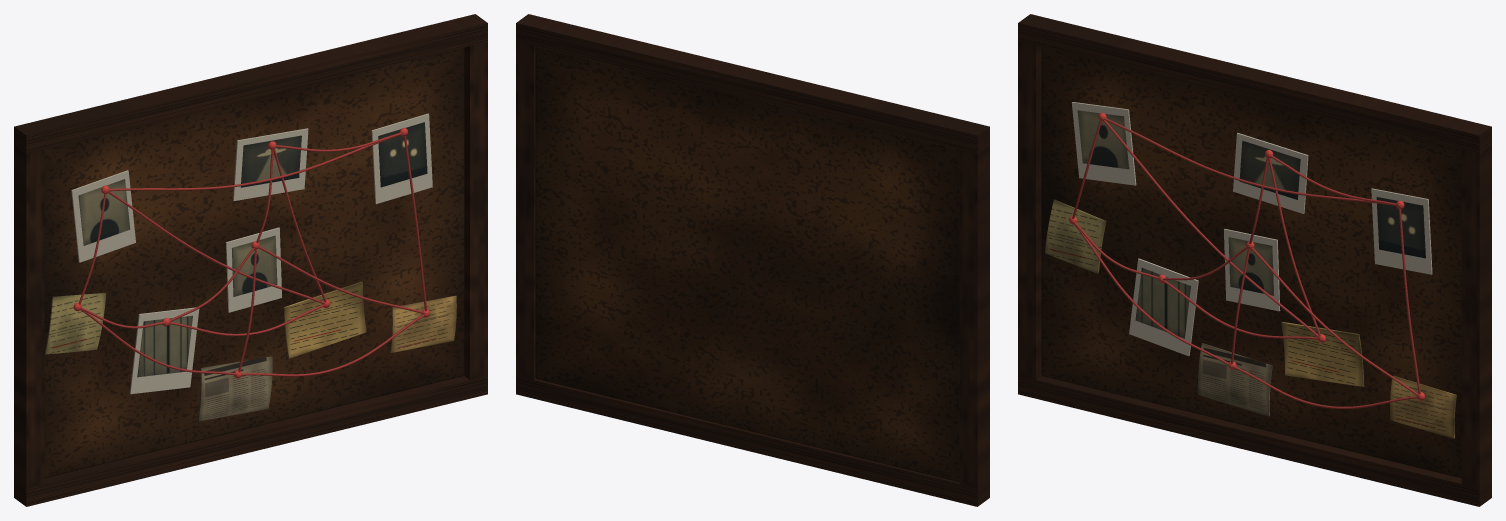
The model's file is evidence_board.glb.
3 renders of one model, left to right at view 1: azimuth 30°, elevation 25°; view 2: azimuth 150°, elevation 25°; view 3: azimuth 330°, elevation 25°, orthographic.
Parts seen in each view (by area): view 1: Cork, Frame_Top, Frame_Bot, Frame_L, Frame_R, Note_A, Clip_A, Note_B, Note_C, Photo_D_img, Photo_C_img, Photo_A_img (+12 smaller); view 2: Cork, Frame_Top, Frame_L, Frame_Bot, Frame_R; view 3: Cork, Frame_Top, Frame_Bot, Frame_R, Frame_L, Note_A, Clip_A, Note_B, Note_C, Photo_D_img, Photo_C_img, Photo_A_img (+14 smaller).
Part boxes in pixels (x1,y1,x2,y2): Cork: (44,47,464,478); Frame_Top: (14,14,487,153); Frame_Bot: (14,376,487,506); Frame_L: (14,145,44,488); Frame_R: (464,41,487,379); Note_A: (283,281,366,358); Clip_A: (197,356,272,421); Note_B: (44,293,106,354); Note_C: (390,295,456,352); Photo_D_img: (137,315,192,377); Photo_C_img: (378,122,427,187); Photo_A_img: (78,179,130,245); Cork: (535,46,959,482); Frame_Top: (516,14,989,153); Frame_L: (959,145,989,488); Frame_Bot: (516,376,989,506); Frame_R: (516,41,535,379); Cork: (1041,47,1461,478); Frame_Top: (1018,14,1491,153); Frame_Bot: (1018,376,1491,506); Frame_R: (1461,145,1491,488); Frame_L: (1018,41,1041,379); Note_A: (1281,322,1364,386); Clip_A: (1197,343,1272,416); Note_B: (1045,199,1106,273); Note_C: (1390,375,1456,438); Photo_D_img: (1135,267,1190,338); Photo_C_img: (1376,197,1425,258); Photo_A_img: (1077,110,1129,169).
Bounding box in the file's own units: 1.3 × 1 × 0.0772.
14 materials, 11 textured.
